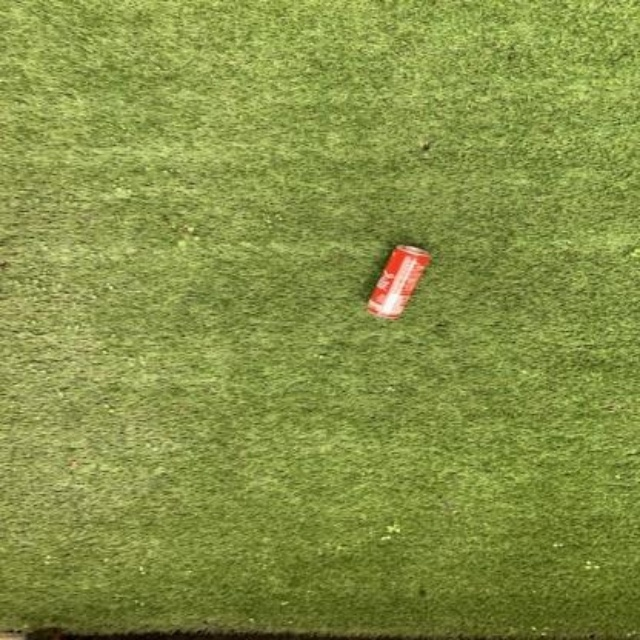trash: (368, 245, 429, 317)
